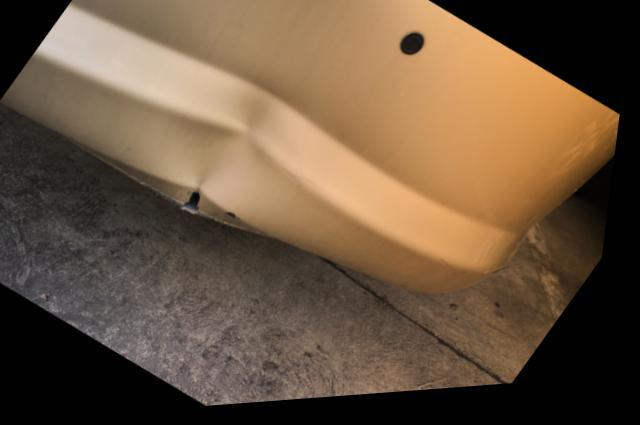dent: (154, 78, 303, 229)
